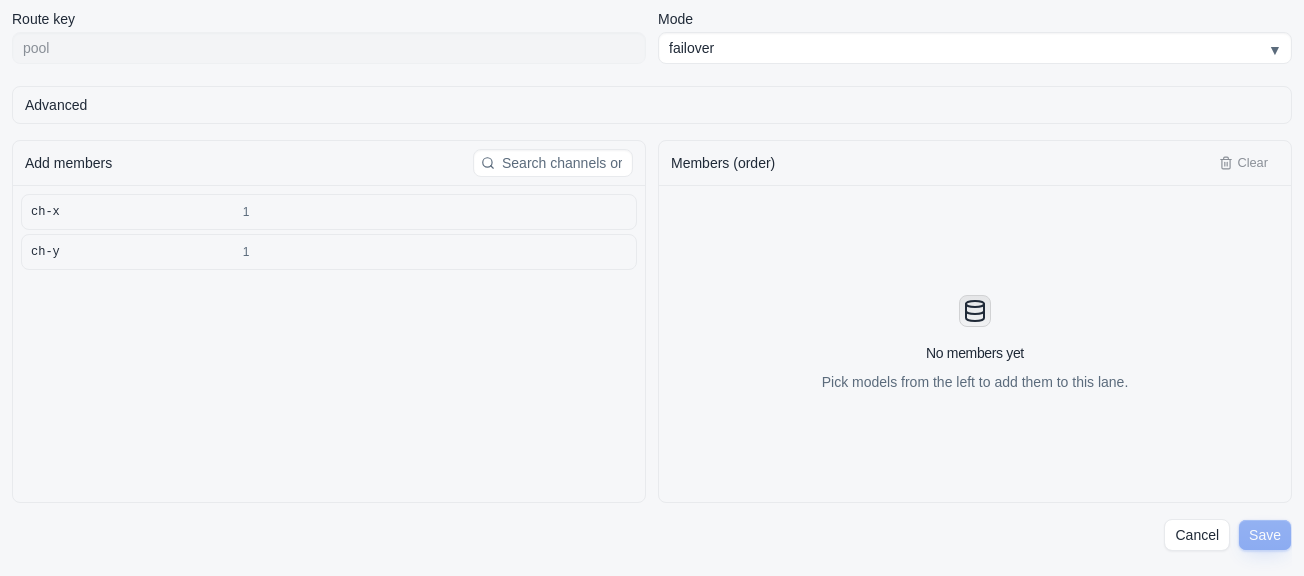
Test: 车道成员编排器 › 解析后的上游是渲染期派生：同一模型在不同渠道映射下显示不同
The image size is (1304, 576).
Click the button "ch-x 1" at {"x": 45, "y": 212}, box 30,195 -> 628,229
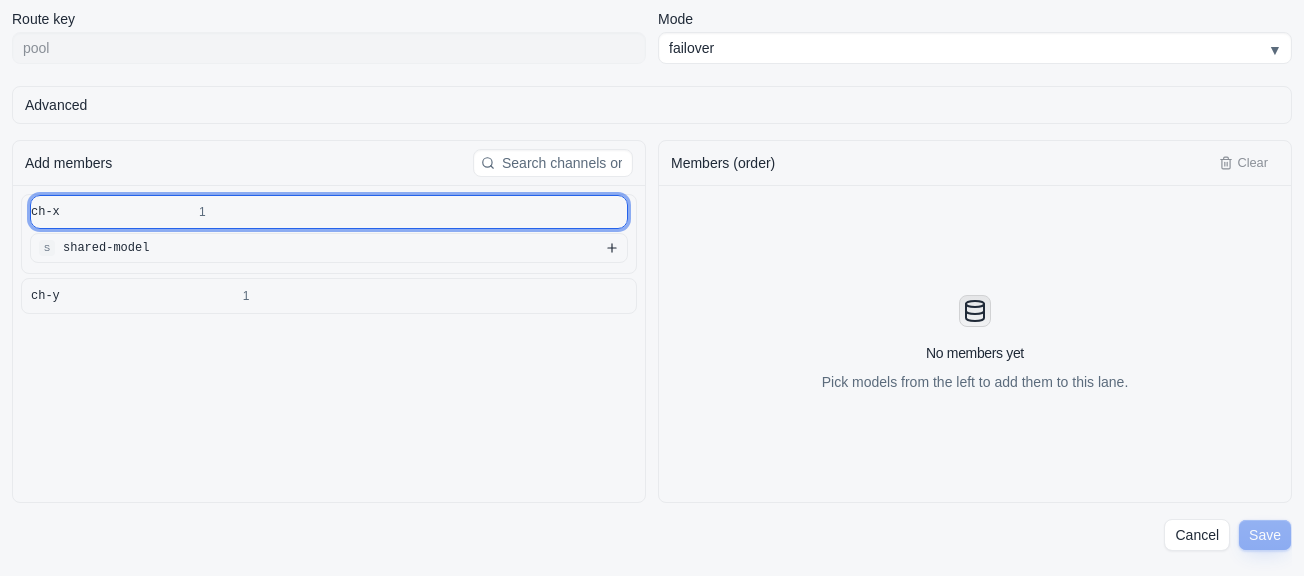
Click the button "s shared-model" at {"x": 106, "y": 248}, box 30,233 -> 628,263
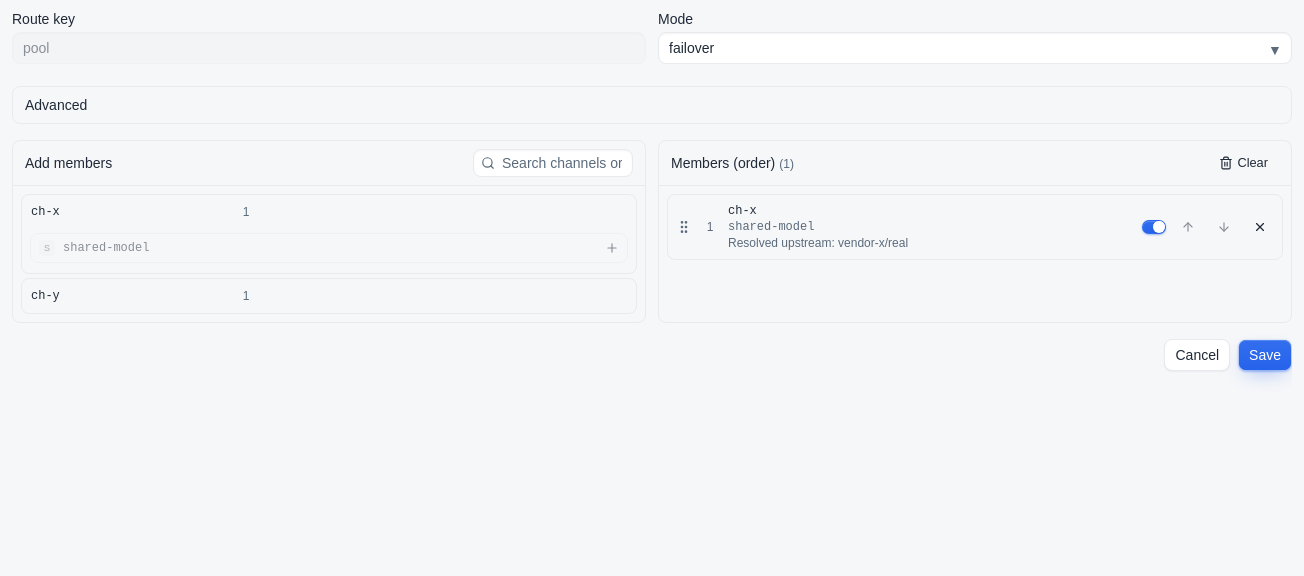
Expected: the text "Resolved upstream: vendor-x/real" is shown, 728,236 -> 908,250
# 展开 ch-y，点它自己的 shared-model → 按该渠道映射派生，与上一条互不干扰。
Click the button "ch-y 1" at {"x": 45, "y": 296}, box 30,279 -> 628,313
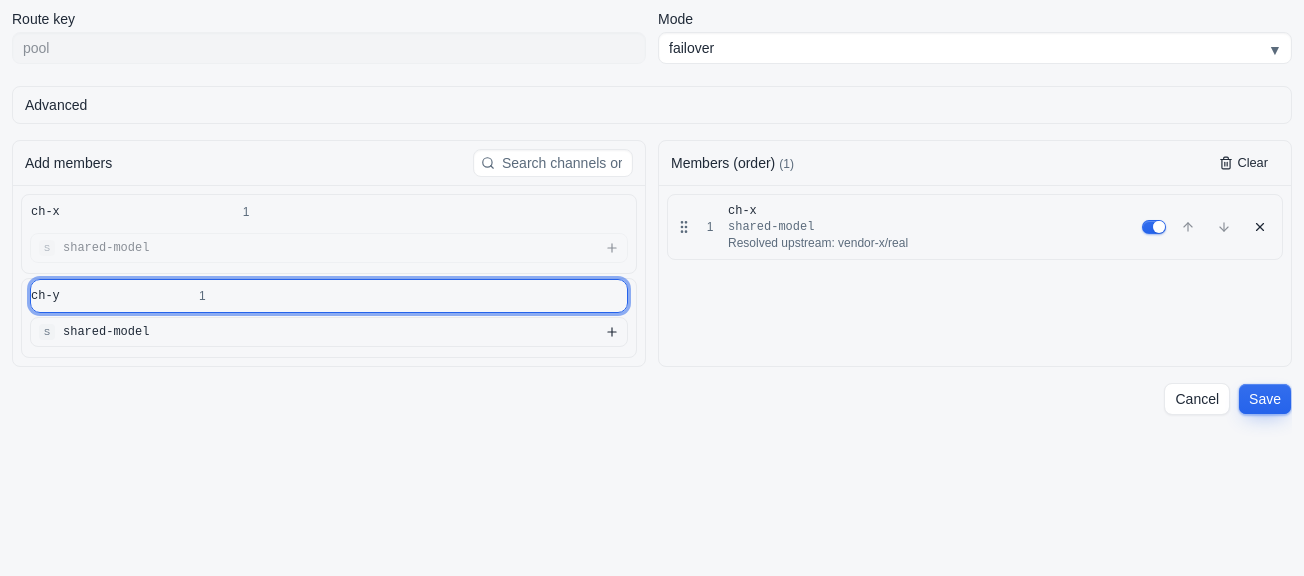
Expected: the 2nd button "s shared-model" is shown
Click the 2nd button "s shared-model" at {"x": 106, "y": 332}, box 30,317 -> 628,347
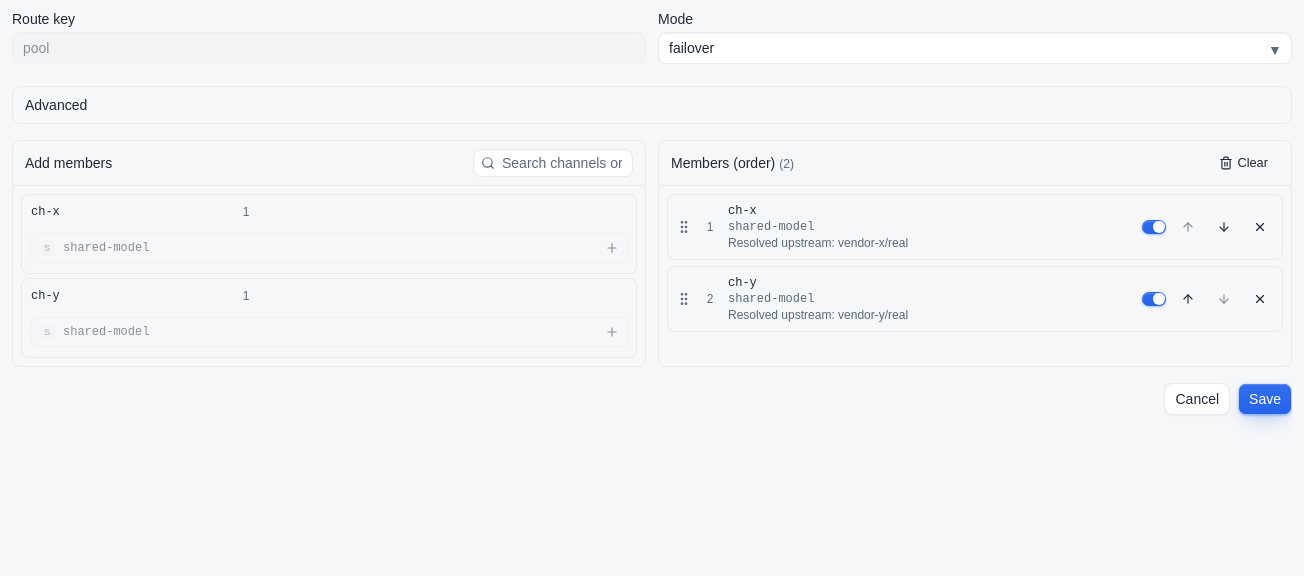
Expected: the text "Resolved upstream: vendor-x/real" is shown, 728,236 -> 908,250
Expected: the text "Resolved upstream: vendor-y/real" is shown, 728,308 -> 908,322
